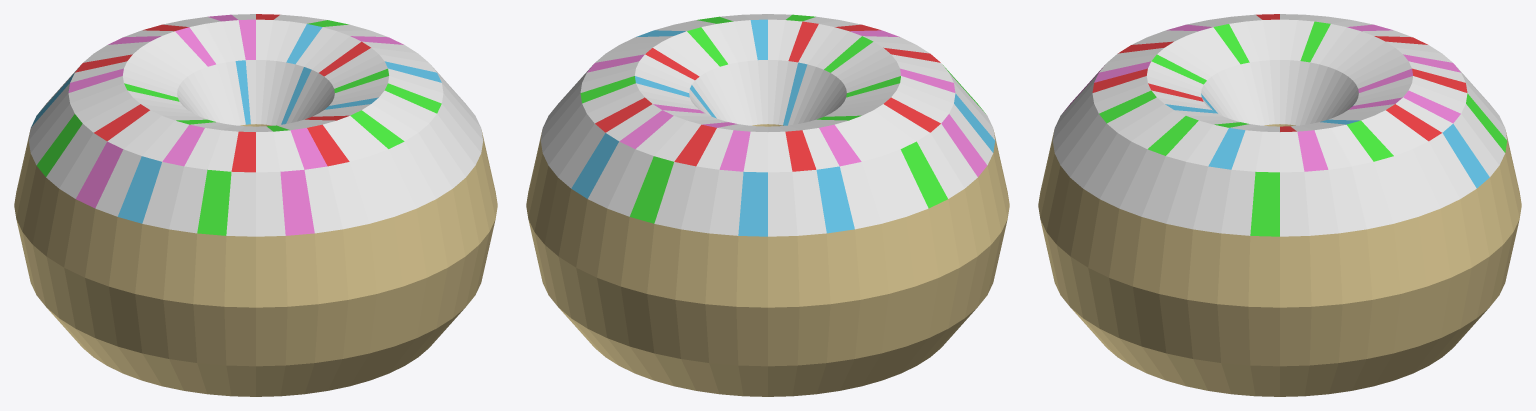
File: donut_devasa.fbx
The picture shows the model from 3 angles, left to right: view 1: azimuth 30°, elevation 25°; view 2: azimuth 150°, elevation 25°; view 3: azimuth 270°, elevation 25°; orthographic projection.
Parts seen in each view (by area): view 1: Torus.001; view 2: Torus.001; view 3: Torus.001.
Part boxes in pixels (x1,y1,x2,y2): Torus.001: [14, 14, 497, 396]; Torus.001: [526, 14, 1009, 396]; Torus.001: [1038, 14, 1521, 396].
Bounding box in the file's own units: 198 × 117 × 198.
